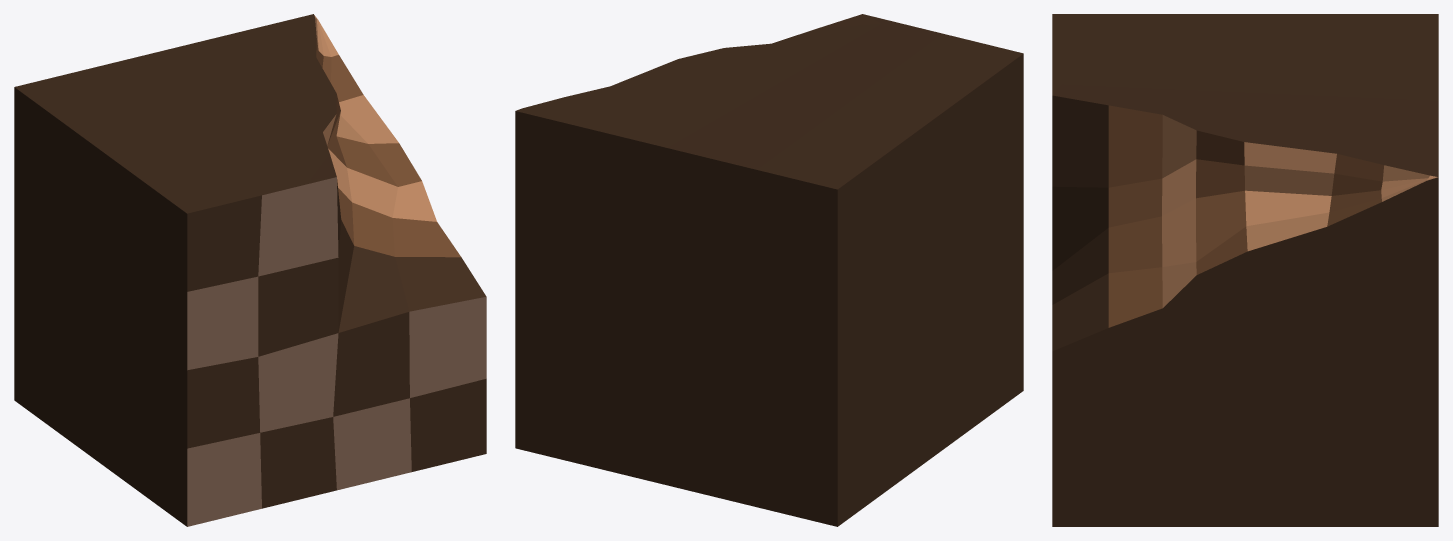
File: wall2CornerAlt.fbx
3 renders of one model, left to right at view 1: azimuth 30°, elevation 25°; view 2: azimuth 150°, elevation 25°; view 3: azimuth 270°, elevation 25°, orthographic. The views are drawn at different scales.
Parts seen in each view (by area): view 1: Cube.001; view 2: Cube.001; view 3: Cube.001.
Part boxes in pixels (x1,y1,x2,y2): Cube.001: [14, 14, 486, 526]; Cube.001: [515, 14, 1023, 526]; Cube.001: [1052, 14, 1438, 526].
Size of the model in its own units: 100 by 100 by 100.
